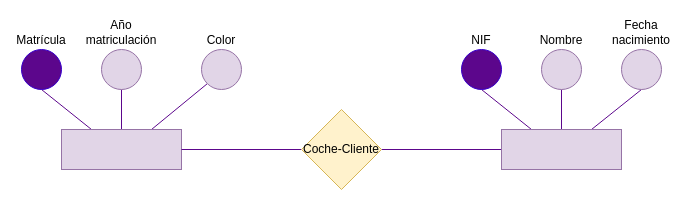
The diagram is 688 pixels wide and 207 high, and some of its shapes have lost their labels. The box of each missing label's shape, as (x1, y1, x2, y2) in pixels:
Cliente: (500, 128, 622, 170)
Coche: (60, 128, 182, 170)
